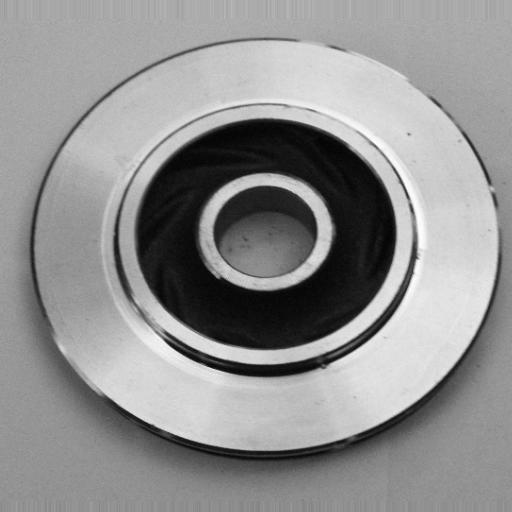scratch: (327, 35, 434, 91), (117, 286, 170, 344)
unpolished_casting: (32, 34, 503, 455)
